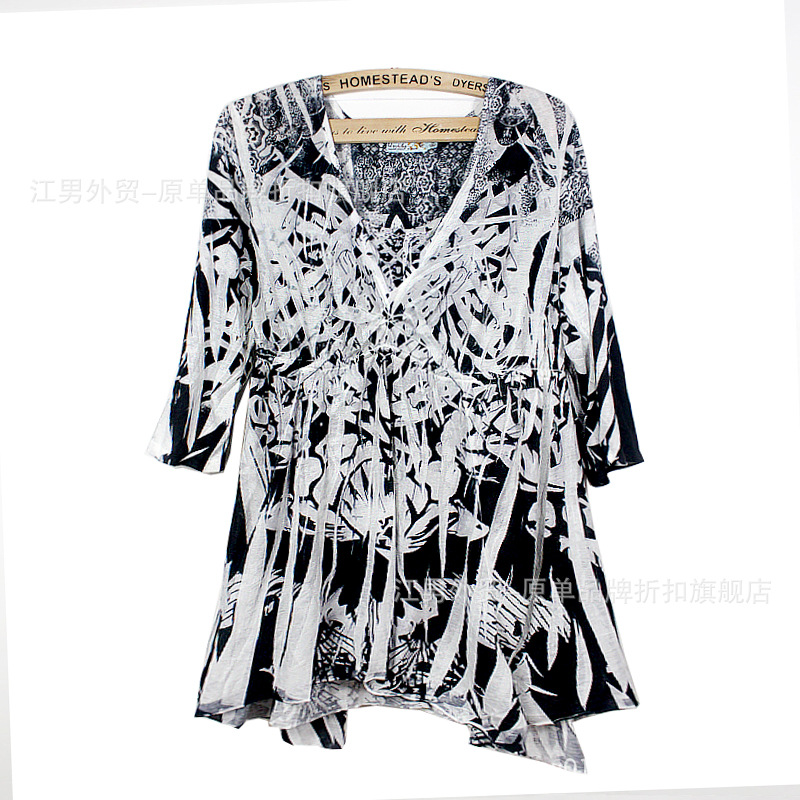C_blouse: (138, 61, 666, 770)
